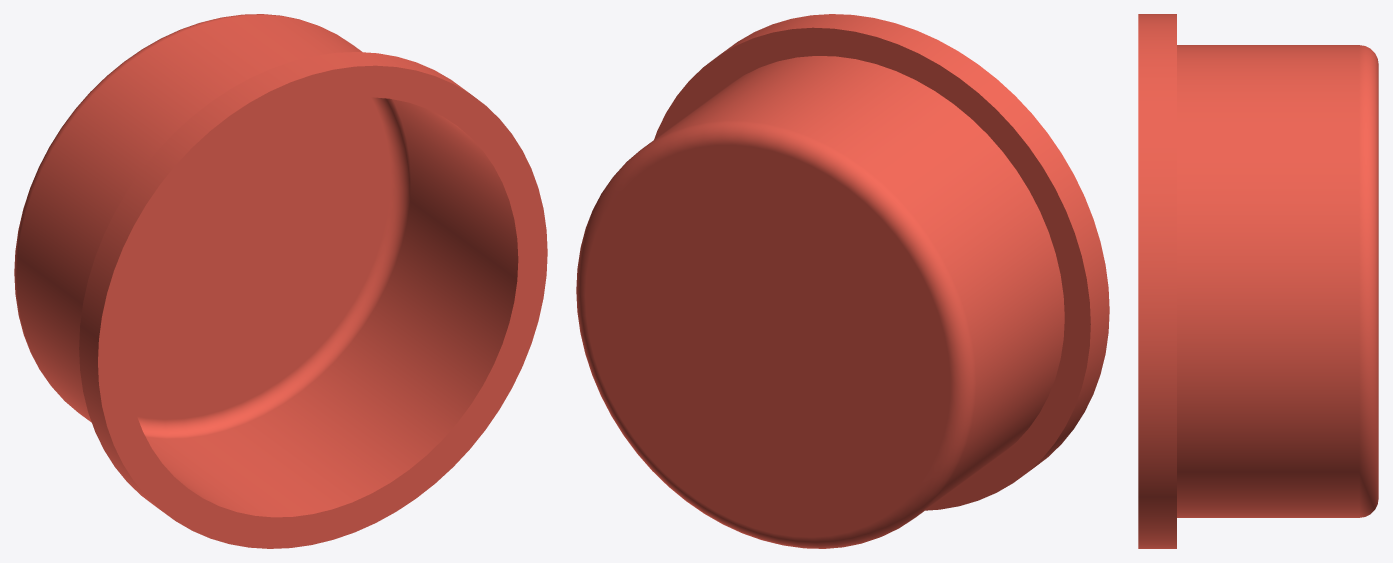
Rendered from Pail.fbx.
3 renders of one model, left to right at view 1: azimuth 30°, elevation 25°; view 2: azimuth 150°, elevation 25°; view 3: azimuth 270°, elevation 25°, orthographic. The views are drawn at different scales.
Parts seen in each view (by area): view 1: Body6; view 2: Body6; view 3: Body6.
Boxes of the visible parts, <box> form: Body6: <box>14,14,547,548</box>; Body6: <box>576,14,1109,548</box>; Body6: <box>1138,14,1378,548</box>.
Bounding box in the file's own units: 69 × 68.92 × 31.
